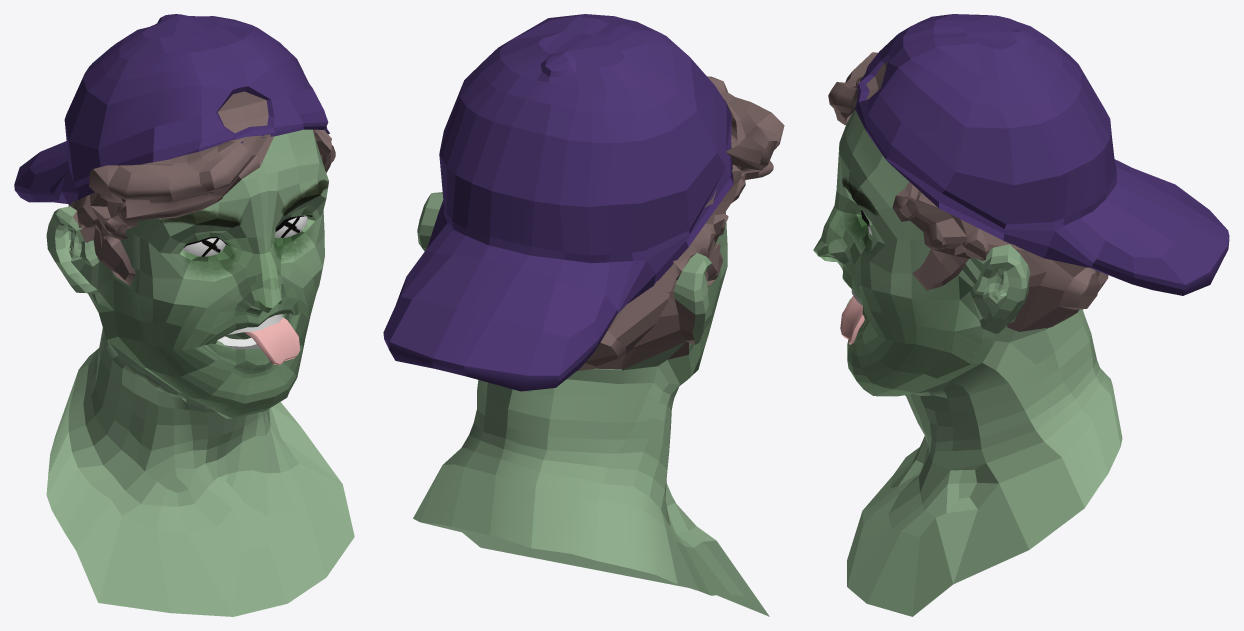
The model's file is DeadHead.fbx.
3 renders of one model, left to right at view 1: azimuth 30°, elevation 25°; view 2: azimuth 150°, elevation 25°; view 3: azimuth 270°, elevation 25°, orthographic. The views are drawn at different scales.
Parts seen in each view (by area): view 1: NPCMale_Ext, Tongue, NPCMale_RightEye; view 2: NPCMale_Ext; view 3: NPCMale_Ext, Tongue.
Boxes of the visible parts, bbox=[...] form: NPCMale_Ext: bbox=[14, 14, 354, 616]; Tongue: bbox=[244, 317, 300, 365]; NPCMale_RightEye: bbox=[182, 238, 225, 256]; NPCMale_Ext: bbox=[383, 14, 784, 616]; NPCMale_Ext: bbox=[813, 14, 1229, 616]; Tongue: bbox=[840, 296, 864, 344].
Bounding box in the file's own units: 23.82 × 44.82 × 31.21.
